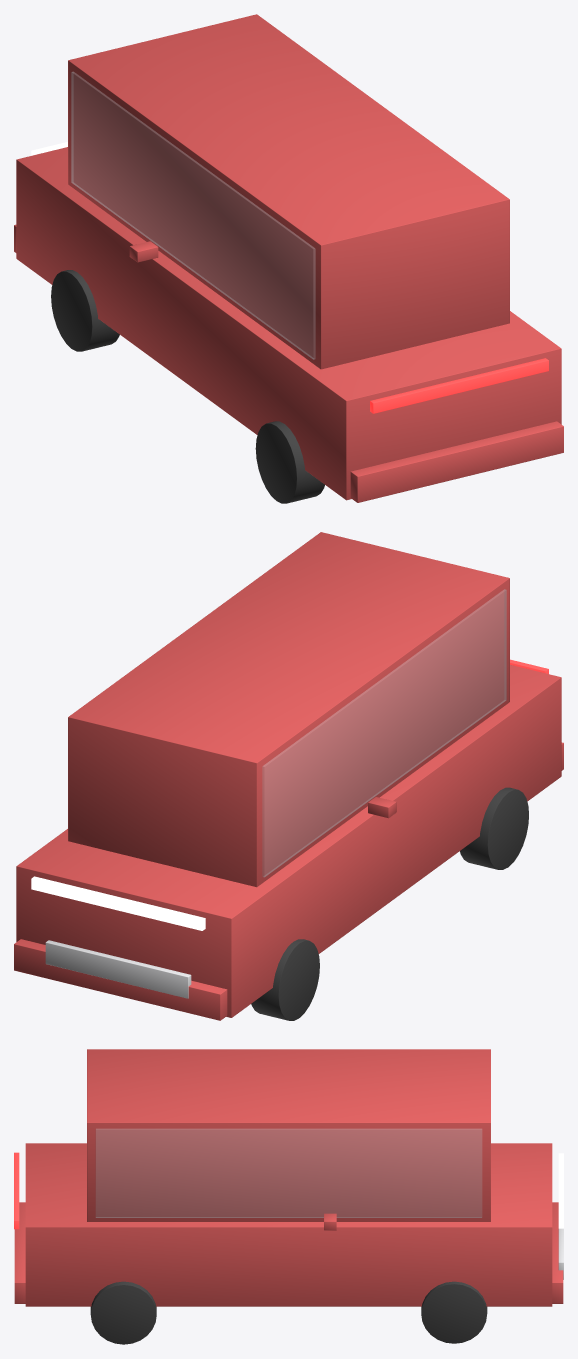
File: vehicle.glb
3 renders of one model, top to bottom at view 1: azimuth 30°, elevation 25°; view 2: azimuth 150°, elevation 25°; view 3: azimuth 270°, elevation 25°, orthographic. The views are drawn at different scales.
Visible parts, largest first — view 1: BODY_Roof, BODY_Main, GLASS_Greenhouse, BODY_Bumpers_Rear, WHEEL_RR_Tire, WHEEL_FR_Tire, LIGHT_Taillights; view 2: BODY_Roof, BODY_Main, GLASS_Greenhouse, BODY_Bumpers_Front, BODY_Grille, WHEEL_RR_Tire, WHEEL_FR_Tire, LIGHT_Headlights; view 3: BODY_Roof, BODY_Main, GLASS_Greenhouse, WHEEL_RL_Tire, WHEEL_FL_Tire, BODY_Bumpers_Rear, BODY_Bumpers_Front, LIGHT_Taillights, LIGHT_Headlights.
Boxes of the visible parts, left/top/right/bottom form: BODY_Roof: left=68, top=14, right=509, bottom=369; BODY_Main: left=16, top=147, right=561, bottom=500; GLASS_Greenhouse: left=71, top=72, right=315, bottom=359; BODY_Bumpers_Rear: left=350, top=421, right=563, bottom=502; WHEEL_RR_Tire: left=255, top=421, right=324, bottom=503; WHEEL_FR_Tire: left=51, top=270, right=119, bottom=351; LIGHT_Taillights: left=370, top=358, right=548, bottom=413; BODY_Roof: left=68, top=532, right=509, bottom=887; BODY_Main: left=16, top=665, right=561, bottom=1017; GLASS_Greenhouse: left=262, top=589, right=506, bottom=877; BODY_Bumpers_Front: left=14, top=939, right=227, bottom=1020; BODY_Grille: left=45, top=940, right=191, bottom=998; WHEEL_RR_Tire: left=460, top=787, right=528, bottom=869; WHEEL_FR_Tire: left=251, top=939, right=319, bottom=1020; LIGHT_Headlights: left=31, top=876, right=205, bottom=930; BODY_Roof: left=87, top=1049, right=490, bottom=1221; BODY_Main: left=25, top=1143, right=552, bottom=1306; GLASS_Greenhouse: left=96, top=1129, right=481, bottom=1217; WHEEL_RL_Tire: left=90, top=1281, right=156, bottom=1344; WHEEL_FL_Tire: left=421, top=1281, right=487, bottom=1343; BODY_Bumpers_Rear: left=14, top=1202, right=25, bottom=1303; BODY_Bumpers_Front: left=552, top=1202, right=563, bottom=1303; LIGHT_Taillights: left=14, top=1152, right=19, bottom=1229; LIGHT_Headlights: left=558, top=1153, right=563, bottom=1228.
Bounding box in the file's own units: 2.24 × 2.21 × 5.16.
